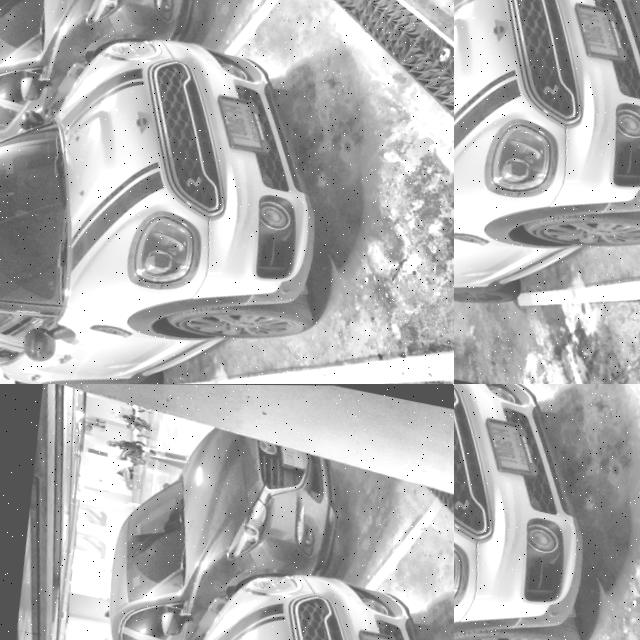license-plate: (468, 413, 546, 483)
